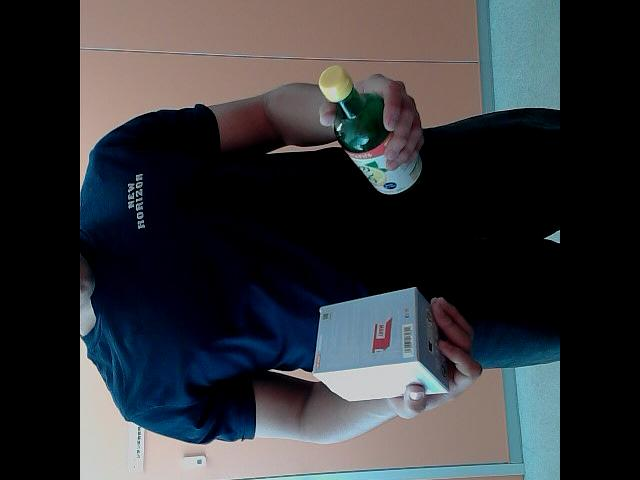Blind_box: (312, 278, 452, 405)
Lemon_sapporo: (304, 66, 430, 192)
